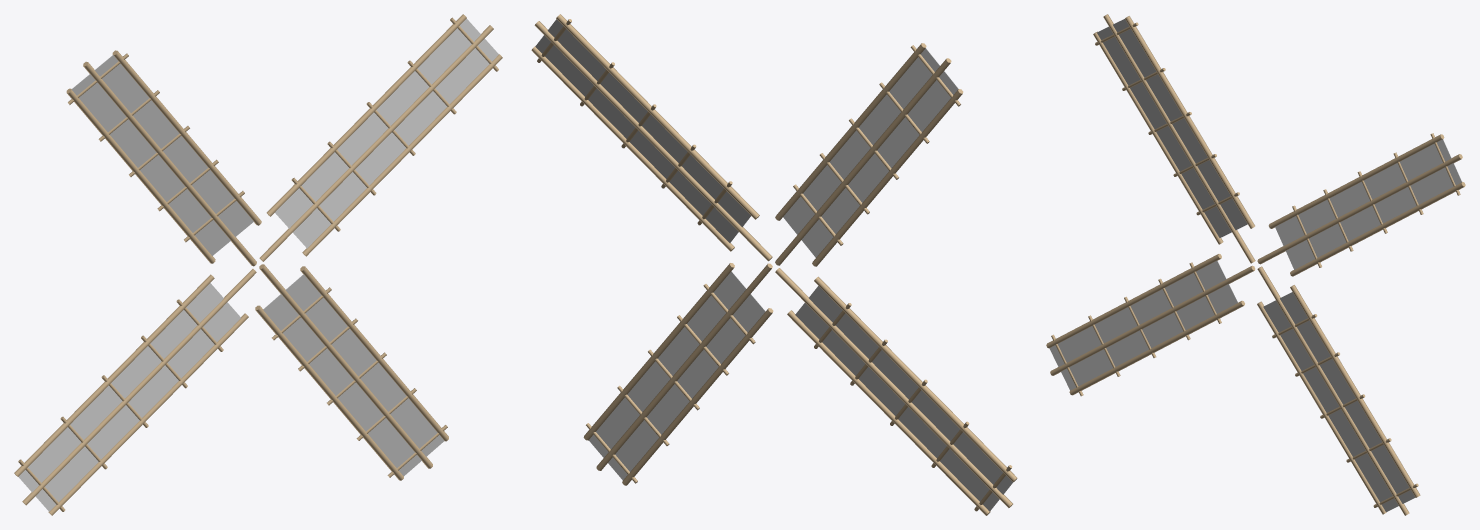
File: windmill blade.fbx
3 views of the same model, side by side, from view 1: azimuth 30°, elevation 25°; view 2: azimuth 150°, elevation 25°; view 3: azimuth 330°, elevation 25° (orthographic). The views are drawn at different scales.
Parts seen in each view (by area): view 1: Null_1.001; view 2: Null_1.001; view 3: Null_1.001.
Boxes of the visible parts, x1=… form: Null_1.001: x1=14, y1=14, x2=502, y2=515; Null_1.001: x1=531, y1=14, x2=1017, y2=515; Null_1.001: x1=1046, y1=14, x2=1465, y2=515.
Bounding box in the file's own units: 200 × 199 × 6.47.
